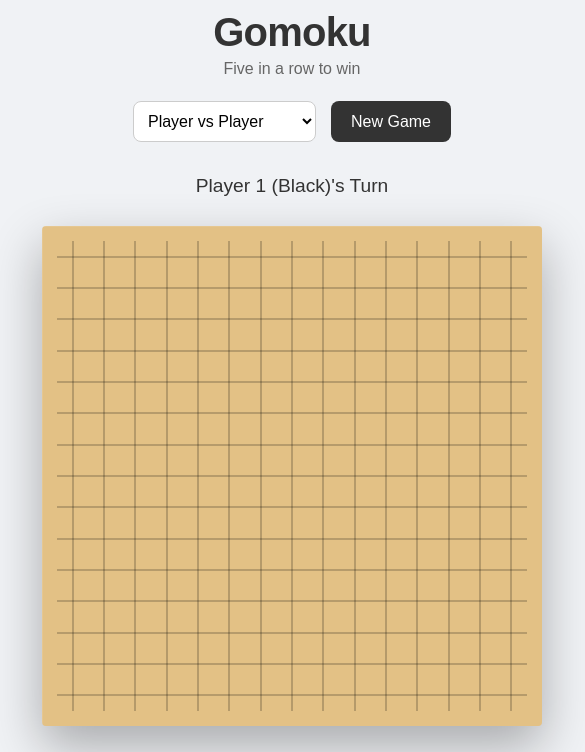
Test: App Component › resets the game
This screenshot has width=585, height=752.
Click the 1st element with class "cell" at (73, 257), box [57,241,88,272]
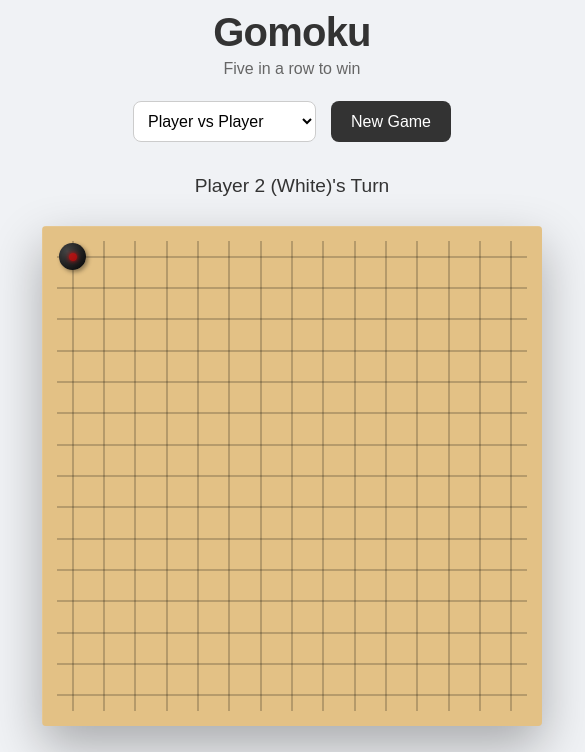
Click the button "New Game" at (391, 122), box [331,101,451,142]
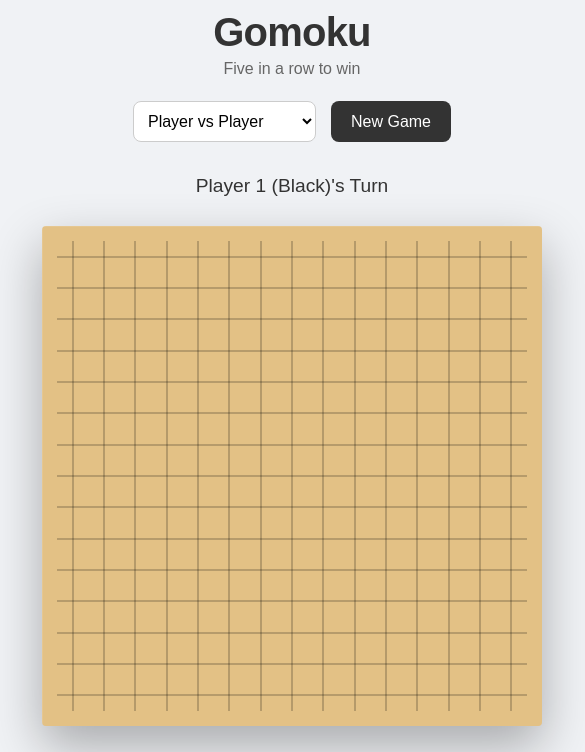
Check: the element with class "stone" is gone
Check: the text "Player 1 (Black)'s Turn" is shown, box [196,172,388,196]
